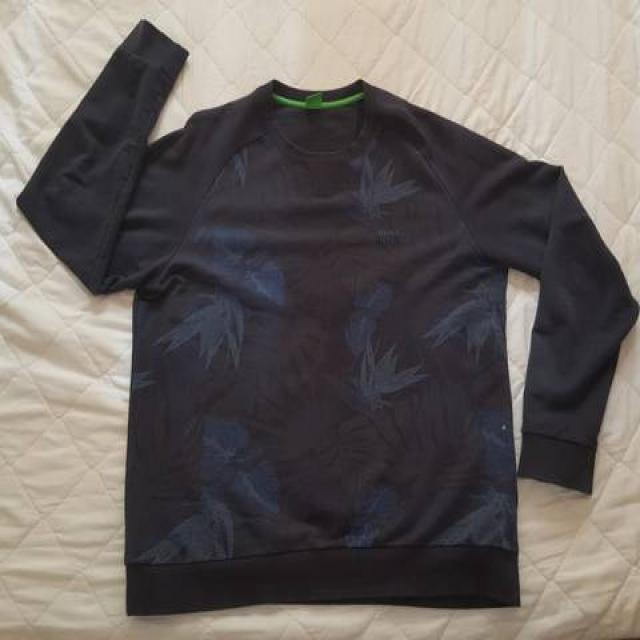Clothes -Biodegradable-: (17, 22, 640, 618)
